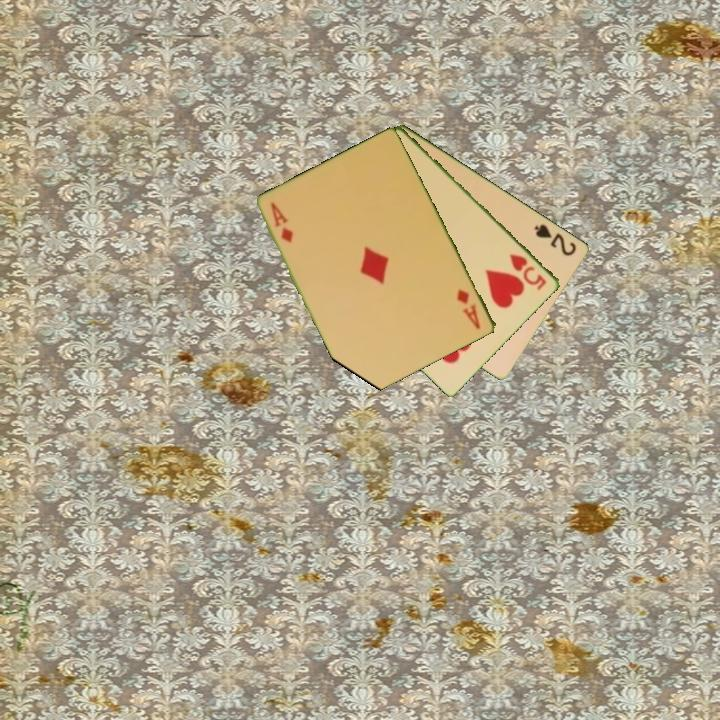2s: (531, 220, 580, 259)
5h: (506, 250, 549, 293)
Ad: (453, 285, 484, 332), (267, 199, 297, 246)
